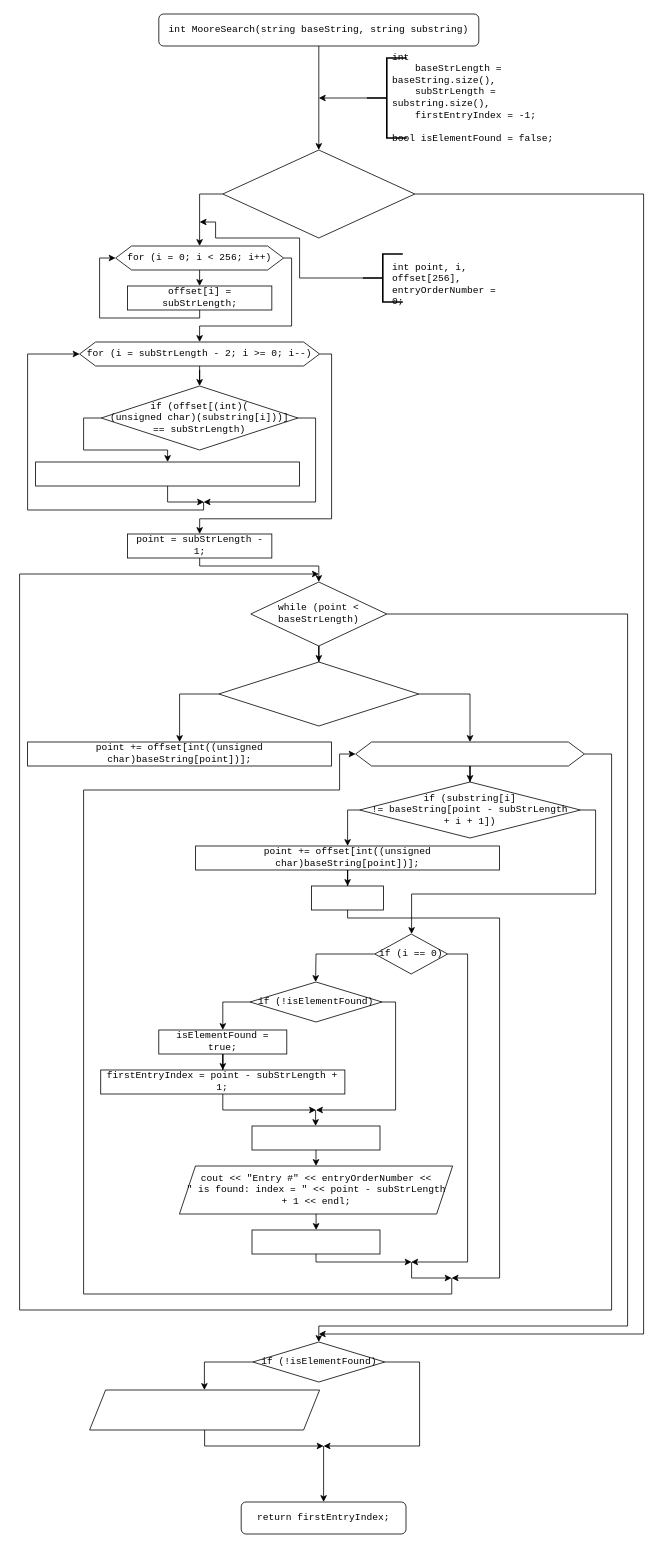
This 664x1548 diagram has some shape labels left out. Here are the shapes that lost their labels. From the top down, the centre of each, then its label:
pixel 318 193: if (baseStrLength != 0 && subStrLength != 0 && baseStrLength >= subStrLength)
pixel 167 473: offset[(int)((unsigned char)(substring[i]))] = subStrLength - i - 1;
pixel 318 693: if (substring[ subStrLength - 1] != baseString [point])
pixel 469 753: for (i = subStrLength - 1; i >= 0; i--)
pixel 347 897: break;
pixel 315 1137: entryOrderNumber++;
pixel 315 1241: point += subStrLength;
pixel 204 1409: cout << "Error: the string does not contain this substring:" << endl;
